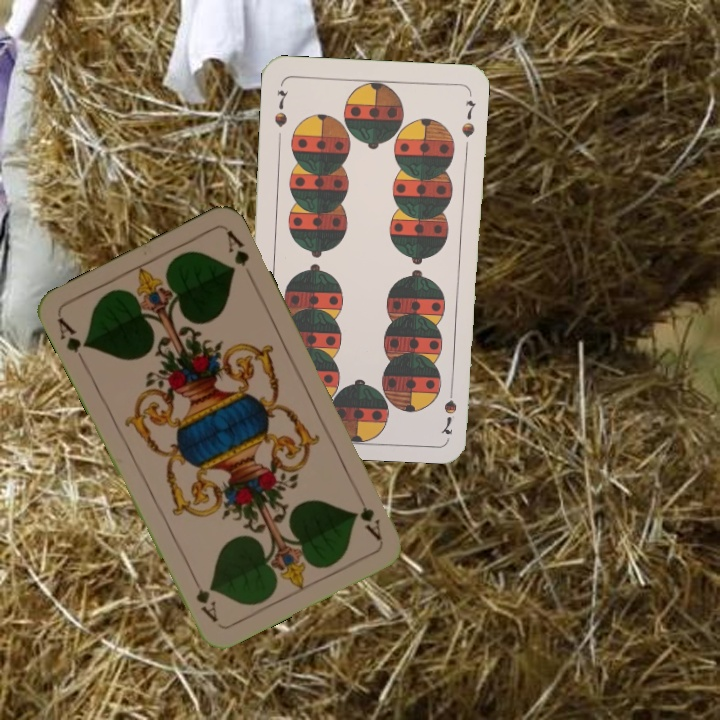GA: (53, 313, 91, 368), (356, 503, 384, 543)
S7: (437, 379, 460, 437), (270, 86, 290, 129)
